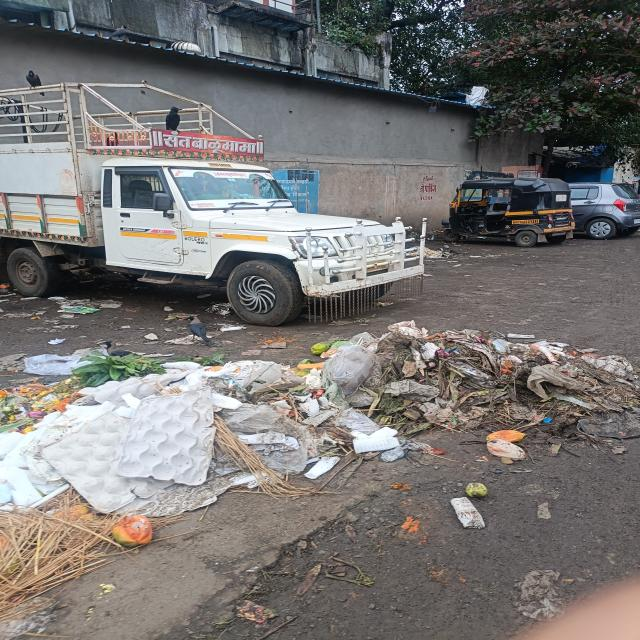garbage: (2, 348, 279, 587), (295, 327, 640, 451)
